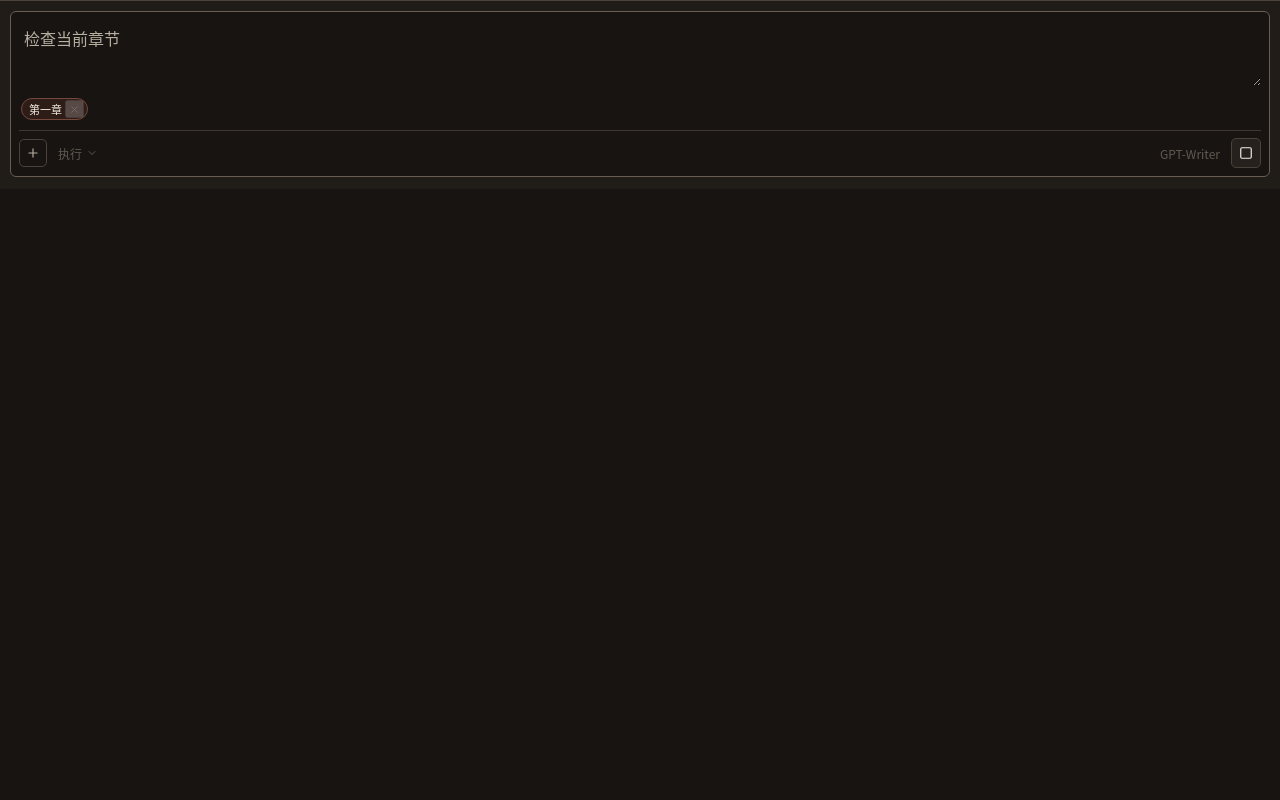
AgentComposer › locks grouped controls while a run is active
This screenshot has width=1280, height=800.
Check: the button with aria-label "模型与推理：GPT-Writer" is disabled, box left=1153, top=140, right=1227, bottom=166
Click the button named "添加引用与执行审批". click: click(33, 153)
box: left=19, top=139, right=47, bottom=167
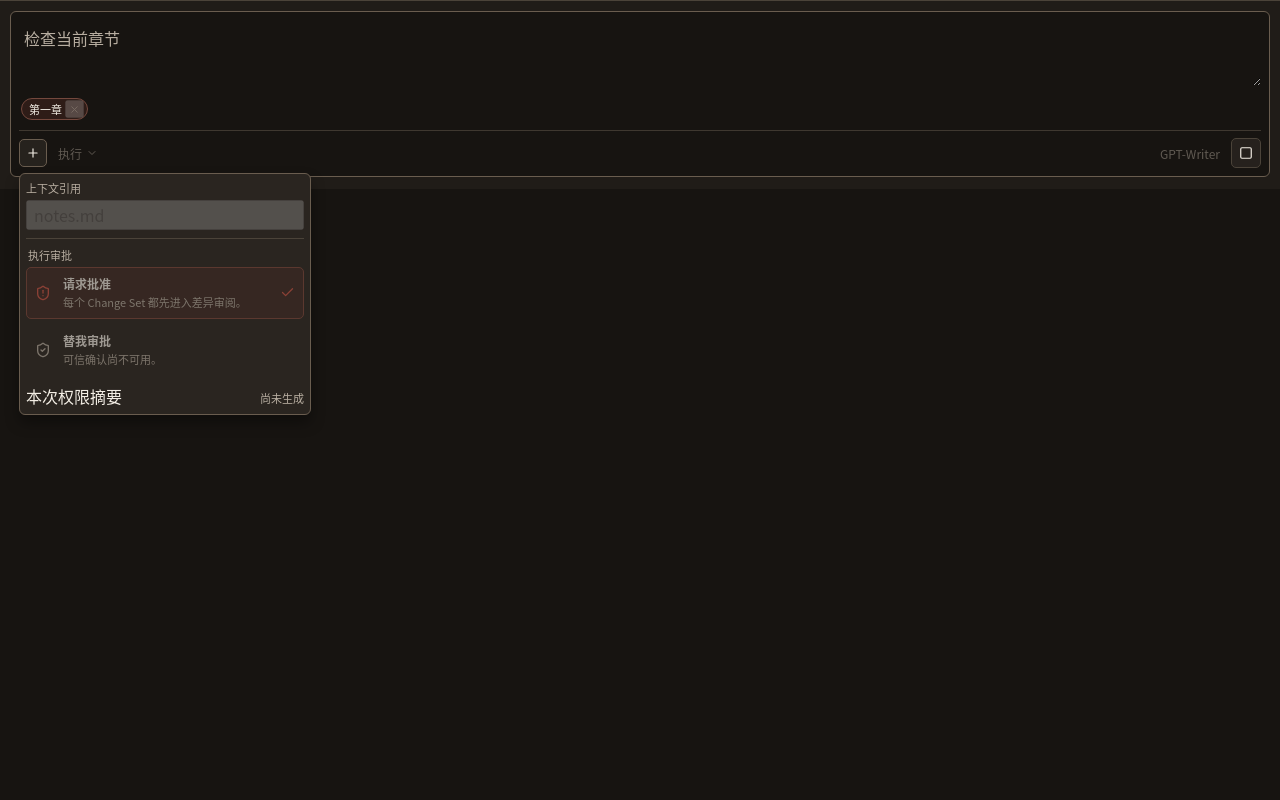
Check: the button named "移除引用 第一章" is disabled, box left=65, top=100, right=84, bottom=118
Check: the button "notes.md" is disabled, box left=26, top=200, right=304, bottom=230
